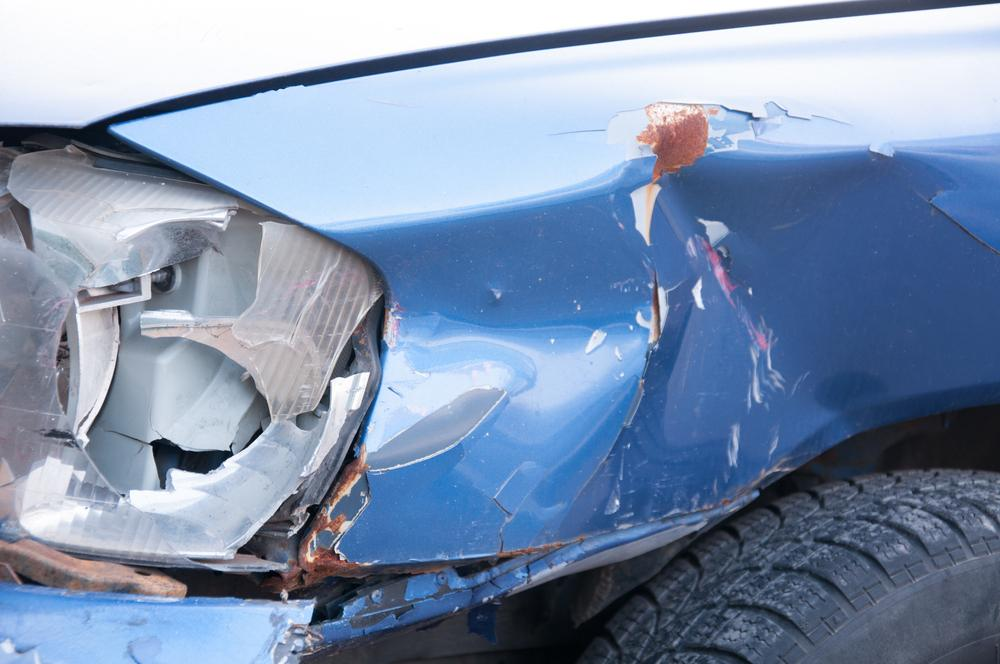dent: (576, 150, 1000, 526), (350, 198, 655, 417)
lamp broken: (0, 135, 392, 574)
